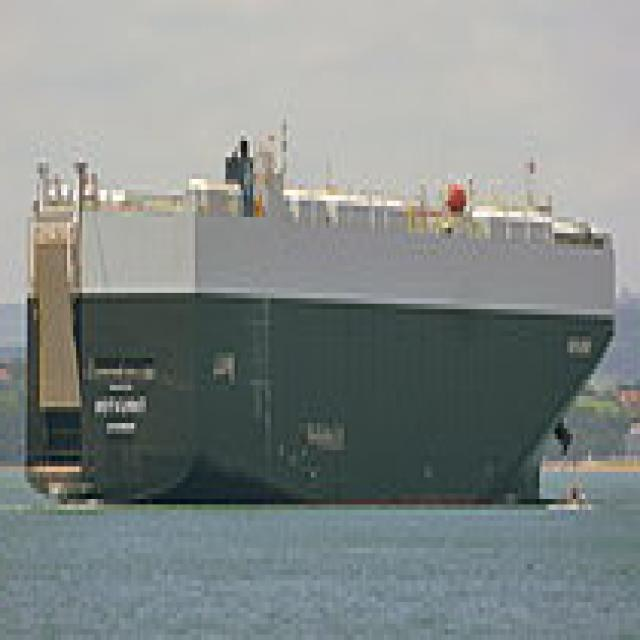Carrier: (24, 103, 622, 510)
